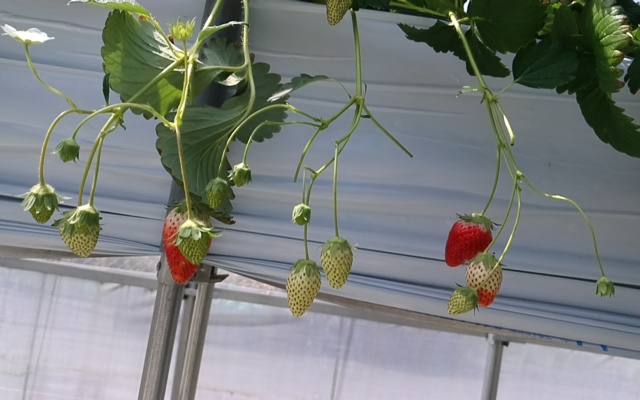GreenStrawberry: (55, 202, 103, 260), (284, 256, 322, 321), (467, 256, 504, 309), (320, 236, 355, 290), (21, 182, 58, 227), (175, 220, 212, 264), (444, 284, 479, 317), (204, 176, 228, 213), (324, 1, 354, 27), (231, 163, 253, 189)
MatureStrawberry: (159, 202, 212, 286), (444, 213, 494, 269)
